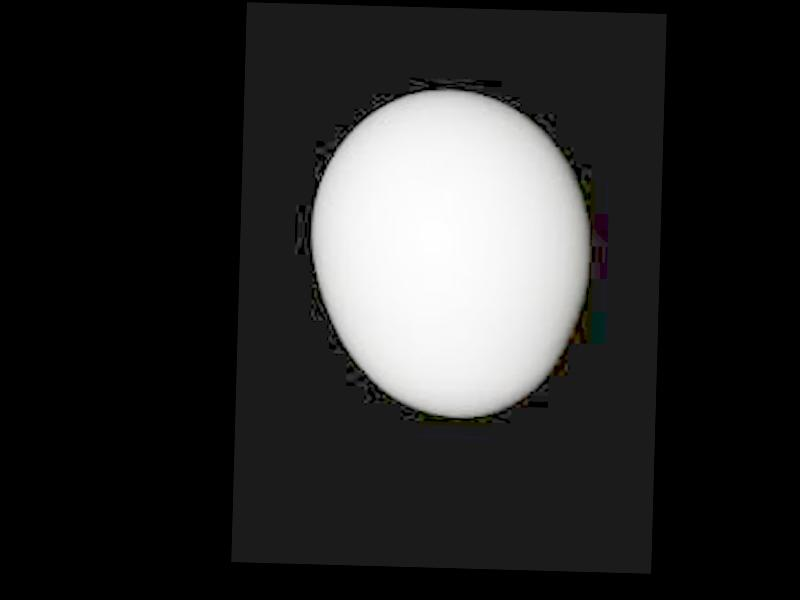Eggs: (309, 85, 586, 416)
